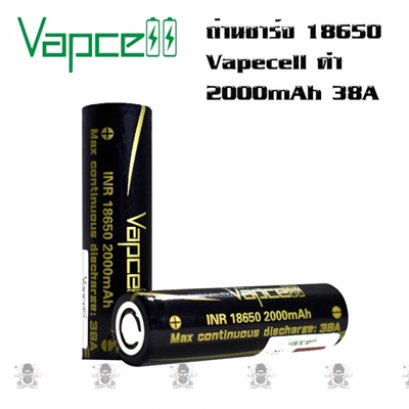Battery: (111, 280, 350, 369), (79, 100, 154, 362)
